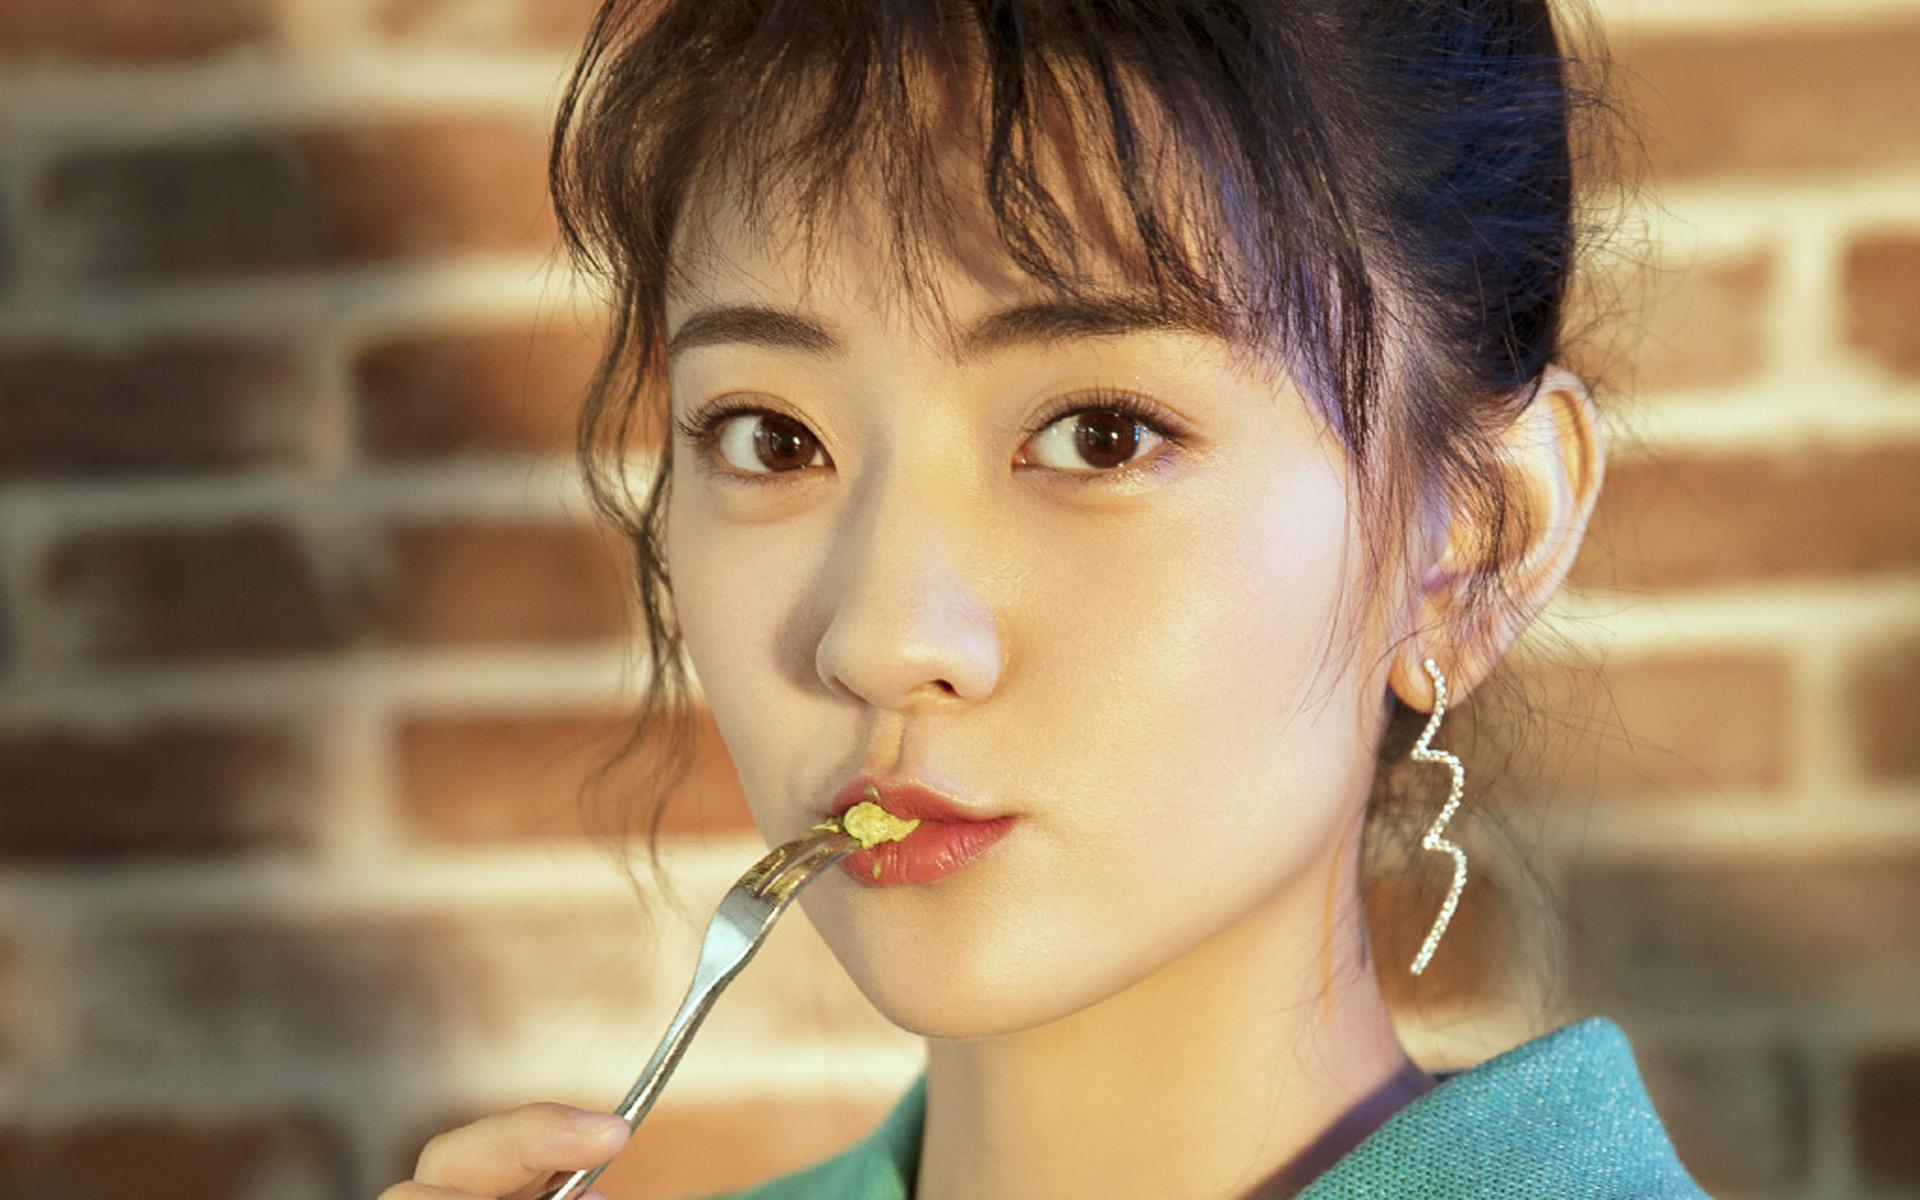person: (543, 1, 1638, 1169)
